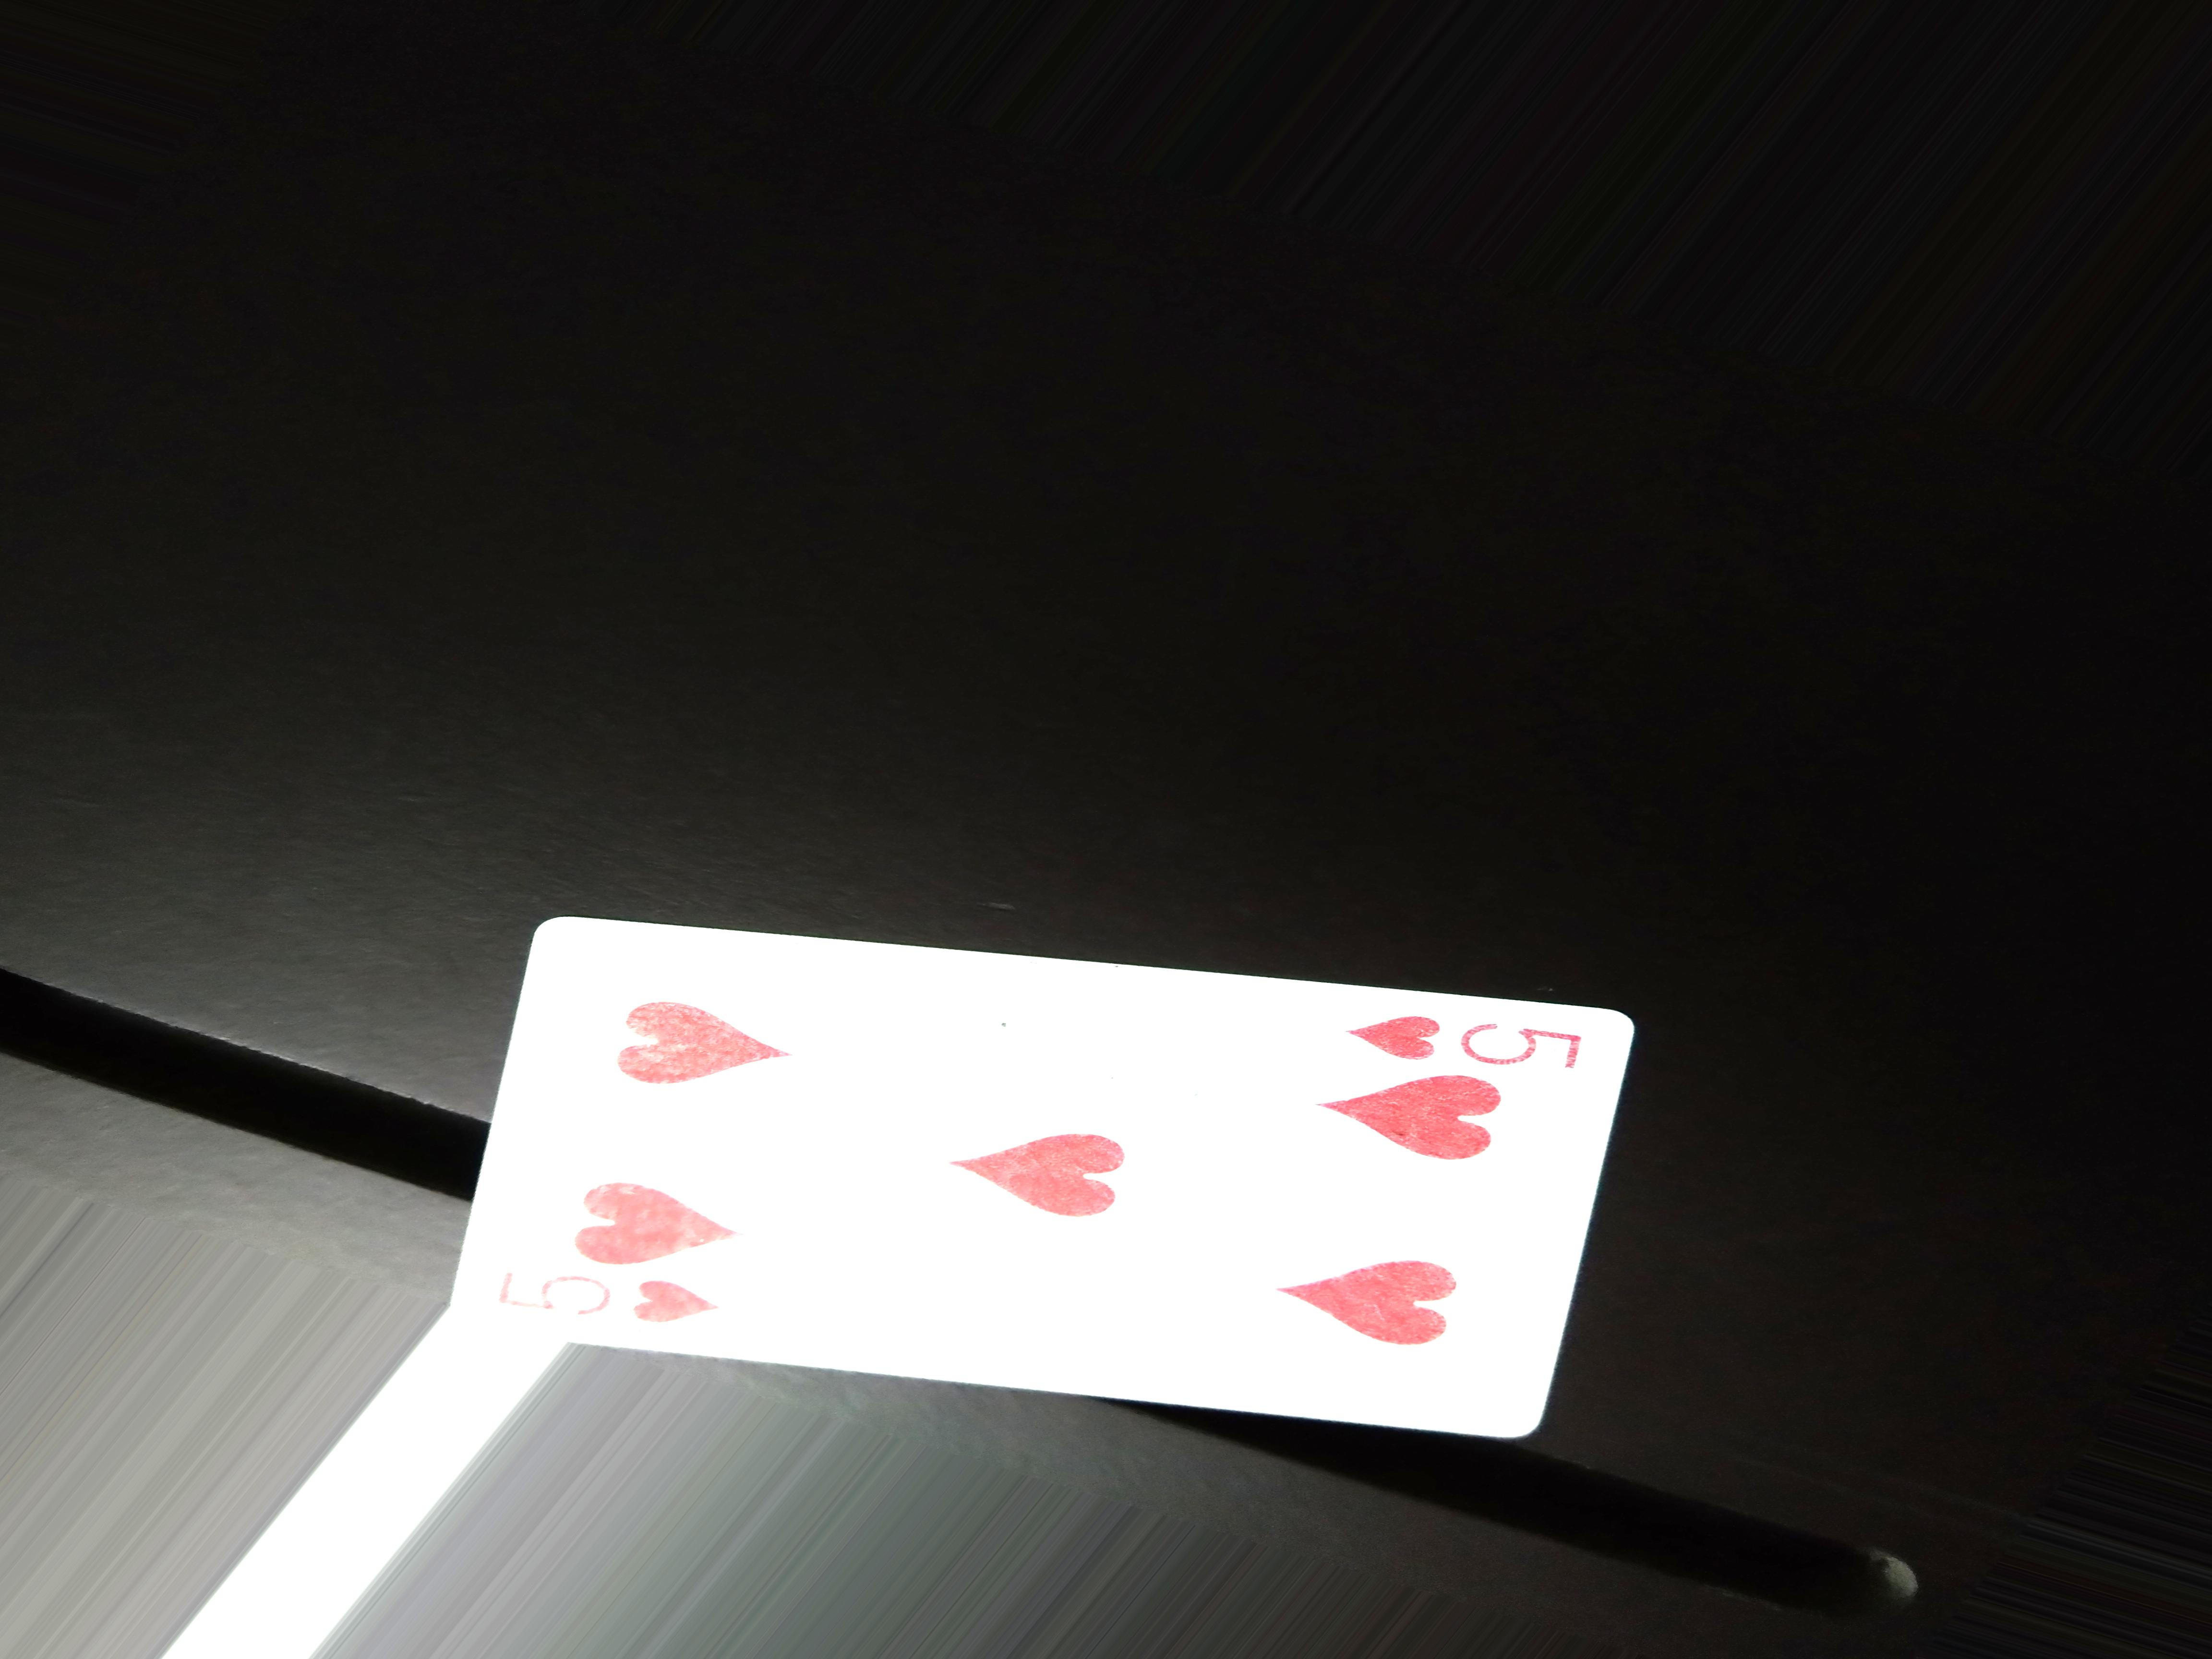5H: (465, 1270, 725, 1328)
